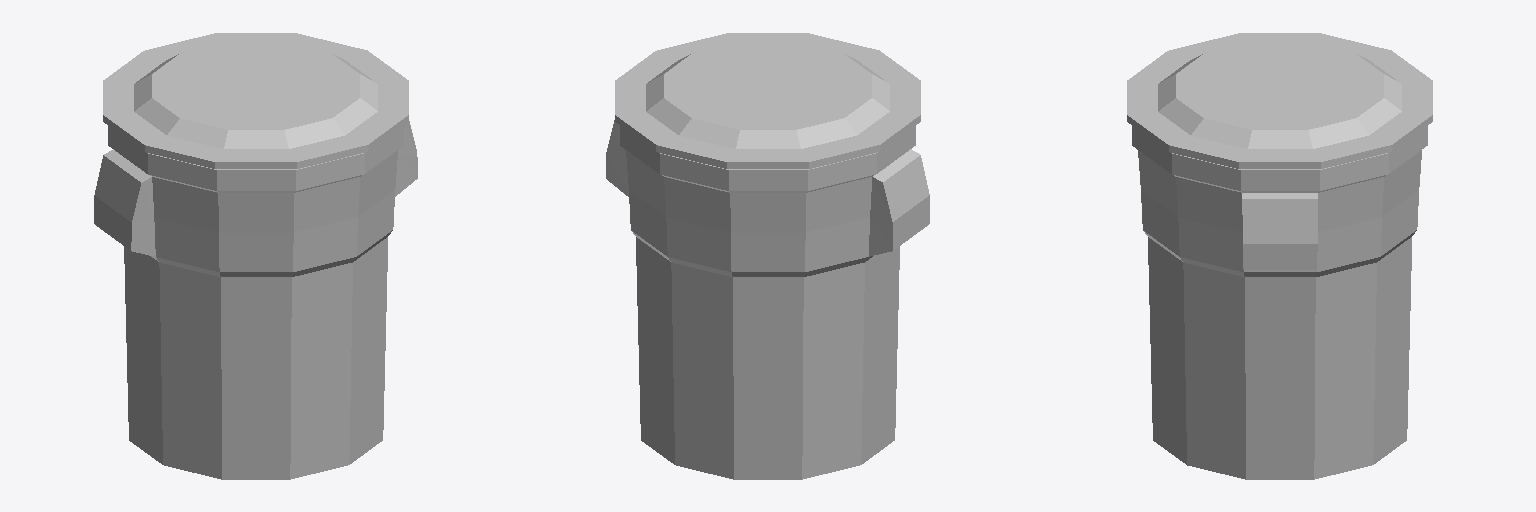
File: Kitchen_trash_can.obj
The picture shows the model from 3 angles: view 1: azimuth 30°, elevation 25°; view 2: azimuth 150°, elevation 25°; view 3: azimuth 270°, elevation 25°; orthographic projection.
Visible parts, largest first — view 1: pCylinder3; view 2: pCylinder3; view 3: pCylinder3.
Part boxes in pixels (left/top/right/bottom): pCylinder3: left=94, top=33, right=417, bottom=479; pCylinder3: left=606, top=33, right=929, bottom=479; pCylinder3: left=1127, top=33, right=1432, bottom=479.
Bounding box in the file's own units: 10.03 × 11.36 × 9.25.